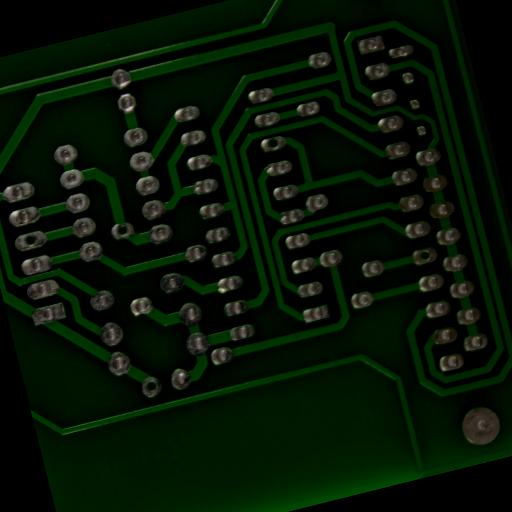missing_hole: (25, 234, 36, 245), (117, 224, 128, 235), (268, 137, 278, 148), (420, 249, 430, 260), (146, 380, 156, 390)
